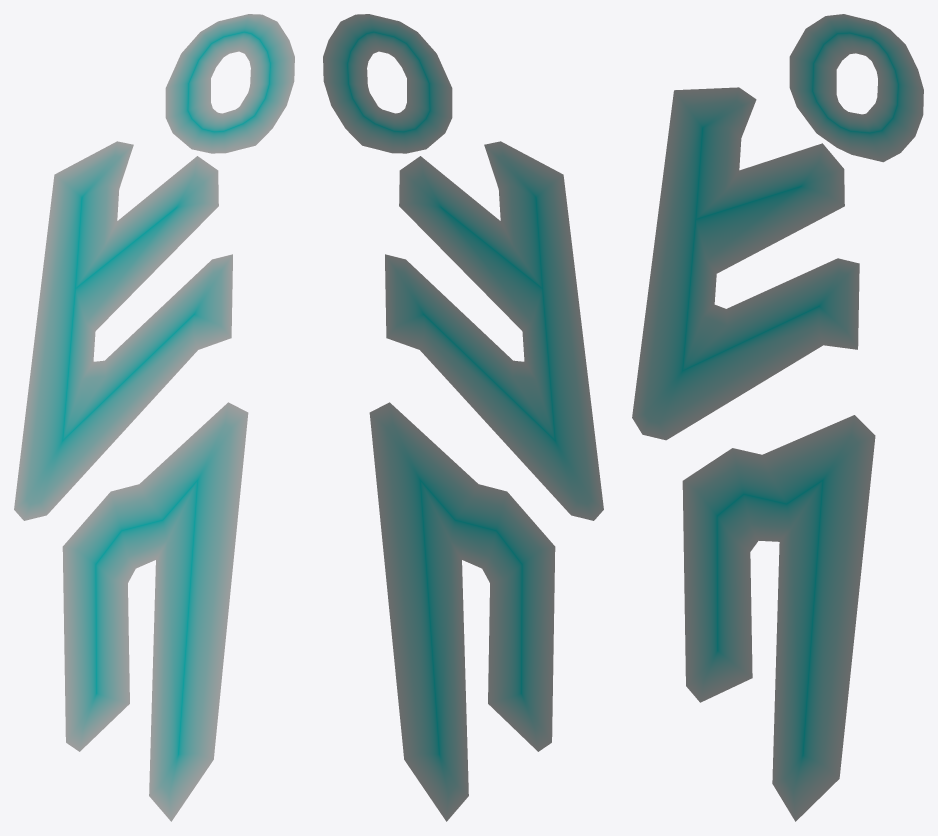
Rendered from SM_EFF_Text_ShadowPossession_01.glb.
The picture shows the model from 3 angles, left to right: view 1: azimuth 30°, elevation 25°; view 2: azimuth 150°, elevation 25°; view 3: azimuth 330°, elevation 25°; orthographic projection. The views are drawn at different scales.
Visible parts, largest first — view 1: SM_EFF_Text_ShadowPossession_01; view 2: SM_EFF_Text_ShadowPossession_01; view 3: SM_EFF_Text_ShadowPossession_01.
Part boxes in pixels (left/top/right/bottom): SM_EFF_Text_ShadowPossession_01: left=14, top=14, right=294, bottom=821; SM_EFF_Text_ShadowPossession_01: left=323, top=14, right=603, bottom=821; SM_EFF_Text_ShadowPossession_01: left=632, top=14, right=923, bottom=821.
Size of the model in its own units: 0.7012 by 1.88 by 1.15e-16.
